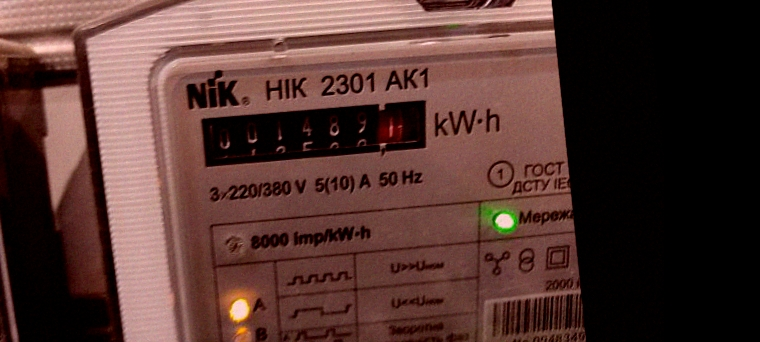0: (215, 124, 233, 151), (242, 117, 260, 144)
1: (271, 114, 288, 144), (383, 109, 398, 140)
4: (298, 112, 316, 139)
8: (324, 109, 343, 138)
9: (353, 108, 370, 135)
screen: (185, 83, 447, 184)
